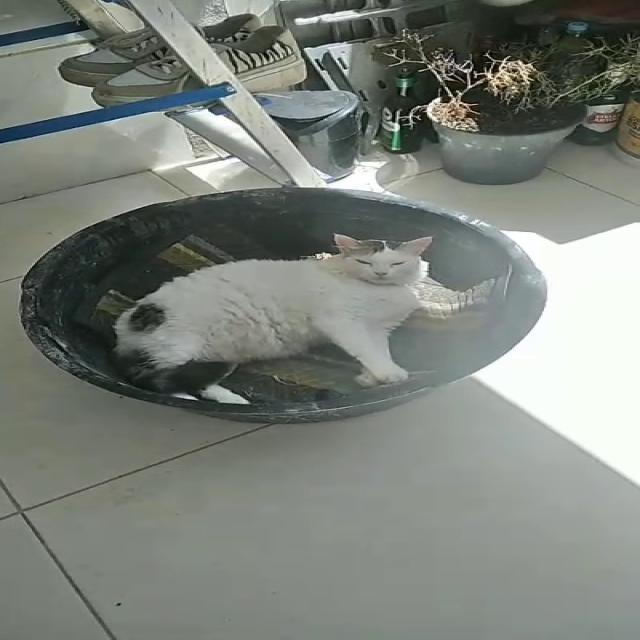Simba: (61, 234, 517, 371)
